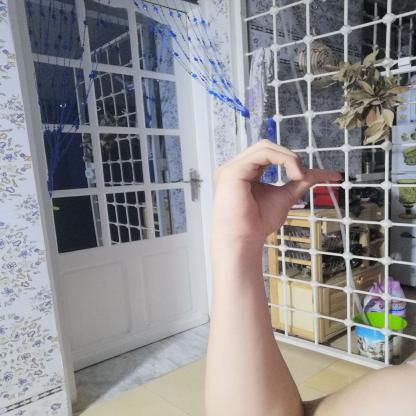WAW: (192, 130, 354, 253)
